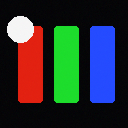2 circle: (7, 16, 33, 42)
